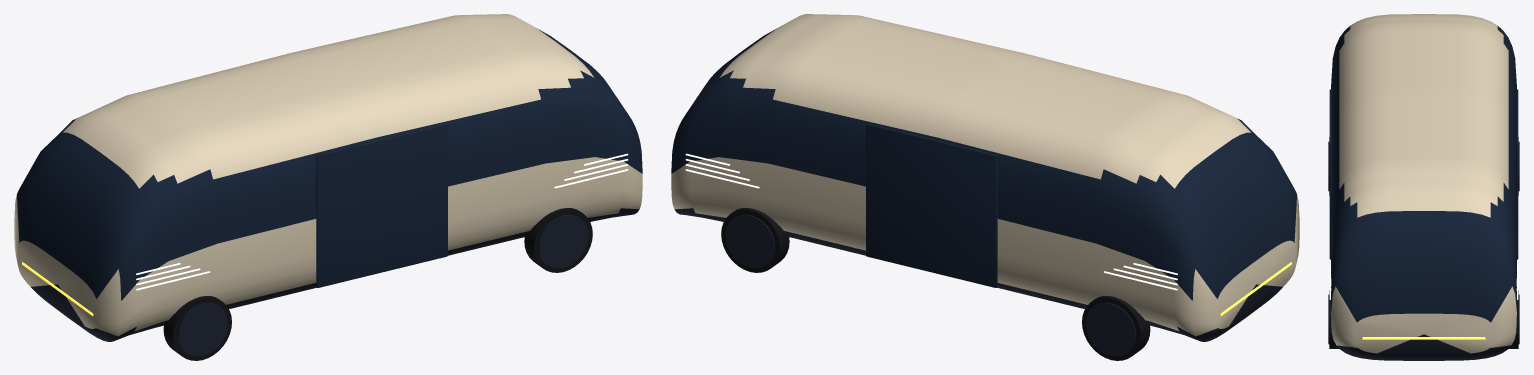
File: robovan.glb
3 views of the same model, side by side, from view 1: azimuth 30°, elevation 25°; view 2: azimuth 150°, elevation 25°; view 3: azimuth 270°, elevation 25° (orthographic). The views are drawn at different scales.
Parts seen in each view (by area): view 1: robovan; view 2: robovan; view 3: robovan.
Boxes of the visible parts, left/top/right/bottom form: robovan: left=14, top=14, right=642, bottom=360; robovan: left=671, top=14, right=1299, bottom=360; robovan: left=1328, top=14, right=1519, bottom=360.
Bounding box in the file's own units: 6.62 × 2.38 × 2.33.
